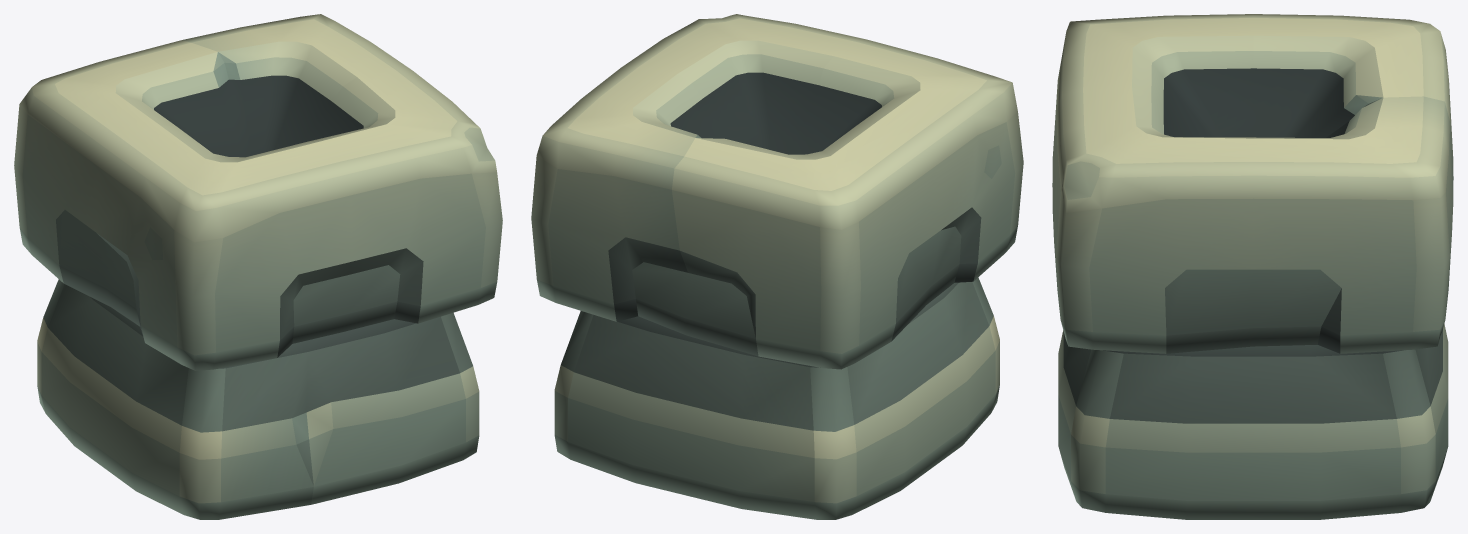
The model's file is block_stone_torch_LOD_group.fbx.
3 views of the same model, side by side, from view 1: azimuth 30°, elevation 25°; view 2: azimuth 150°, elevation 25°; view 3: azimuth 270°, elevation 25° (orthographic). The views are drawn at different scales.
Parts seen in each view (by area): view 1: block_stone_torch_LOD0; view 2: block_stone_torch_LOD0; view 3: block_stone_torch_LOD0.
Boxes of the visible parts, left/top/right/bottom form: block_stone_torch_LOD0: left=14, top=14, right=502, bottom=519; block_stone_torch_LOD0: left=531, top=14, right=1023, bottom=519; block_stone_torch_LOD0: left=1052, top=14, right=1453, bottom=519.
Size of what is drawn, in the model's own units: 109 by 108 by 109.
Materials: 1 (1 with a texture image).
